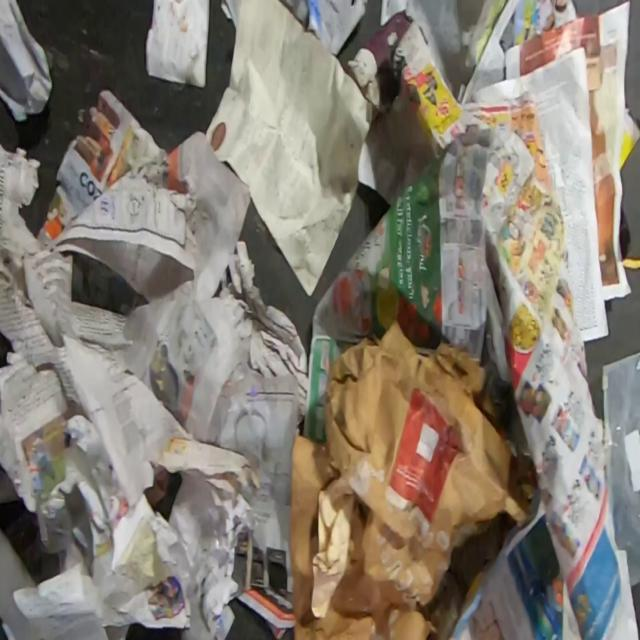cardboard: (346, 13, 413, 116)
soft_plastic: (600, 351, 640, 588), (0, 496, 61, 586)
